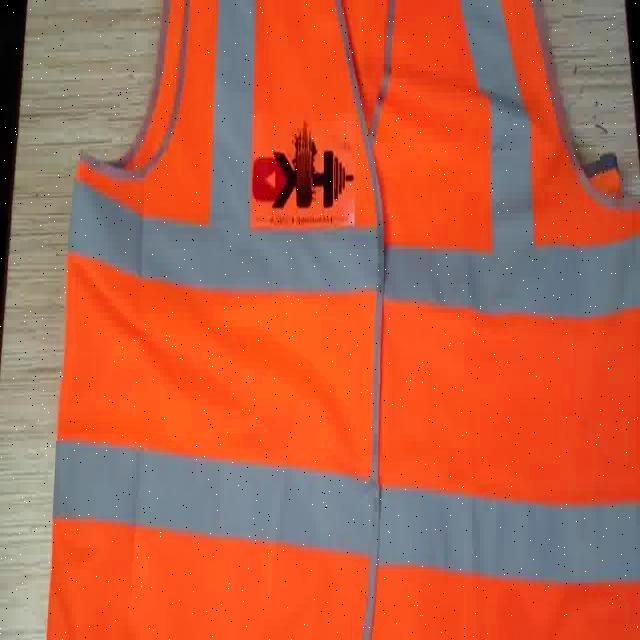Vest: (65, 111, 640, 639)
